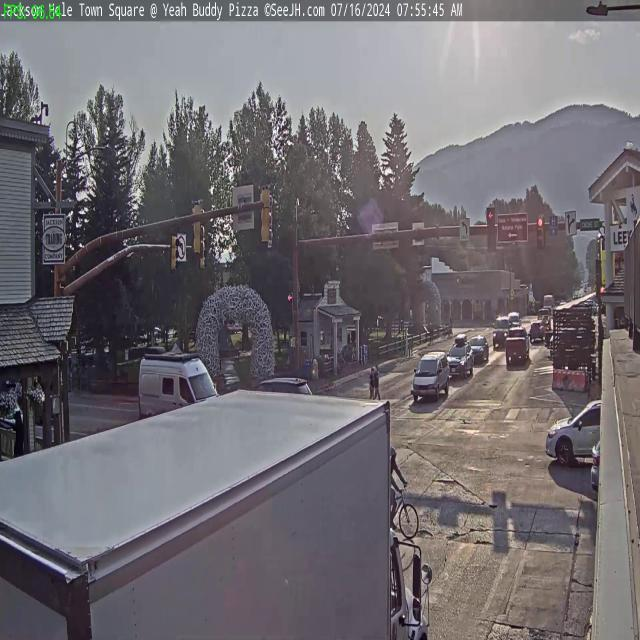bike: (388, 486, 422, 540)
person: (387, 444, 402, 523), (374, 364, 380, 400), (370, 364, 375, 402)
pickup: (504, 327, 530, 363)
suv: (412, 349, 450, 402), (448, 338, 476, 380), (470, 333, 490, 366)
traffic light: (190, 200, 203, 256), (260, 184, 272, 243), (486, 207, 496, 256), (171, 232, 179, 278), (536, 215, 545, 248)
van: (137, 352, 220, 423)
